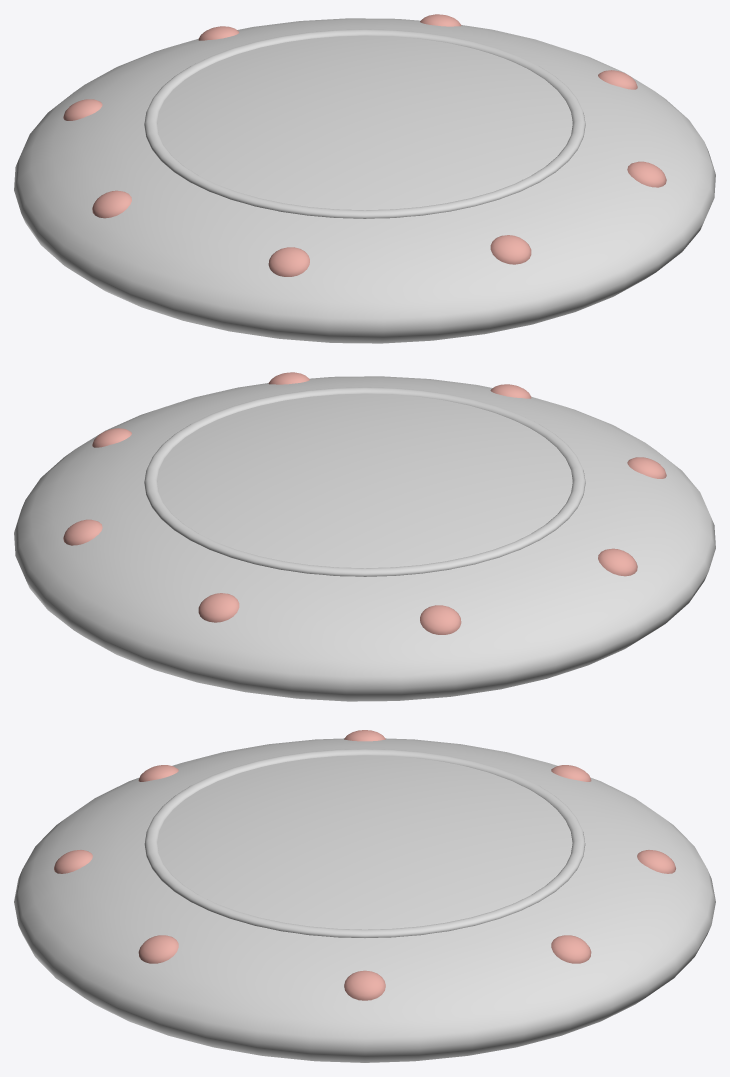
The model's file is UFOBot.glb.
The picture shows the model from 3 angles, top to bottom: view 1: azimuth 30°, elevation 25°; view 2: azimuth 150°, elevation 25°; view 3: azimuth 270°, elevation 25°; orthographic projection.
Visible parts, largest first — view 1: Sphere.009; view 2: Sphere.009; view 3: Sphere.009.
Part boxes in pixels (x1,y1,x2,y2): Sphere.009: [14, 14, 715, 343]; Sphere.009: [14, 372, 715, 701]; Sphere.009: [14, 730, 715, 1062].
Size of the model in its own units: 1.04 by 0.2277 by 1.04.
